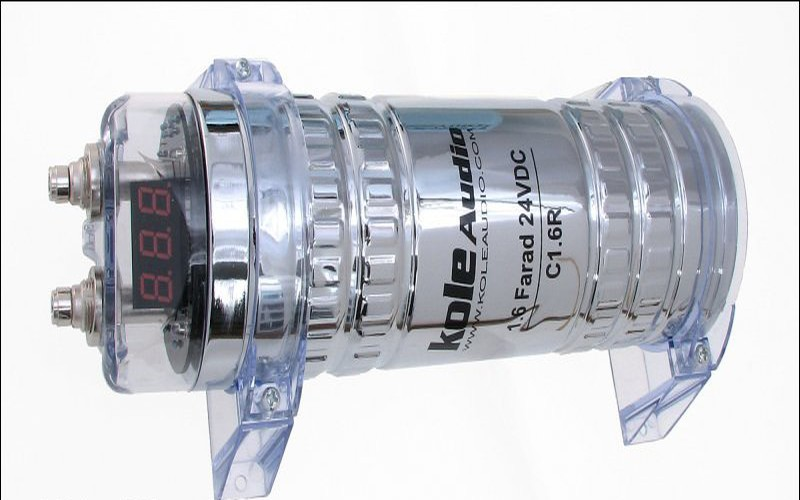Capacitor: (29, 41, 766, 429)
